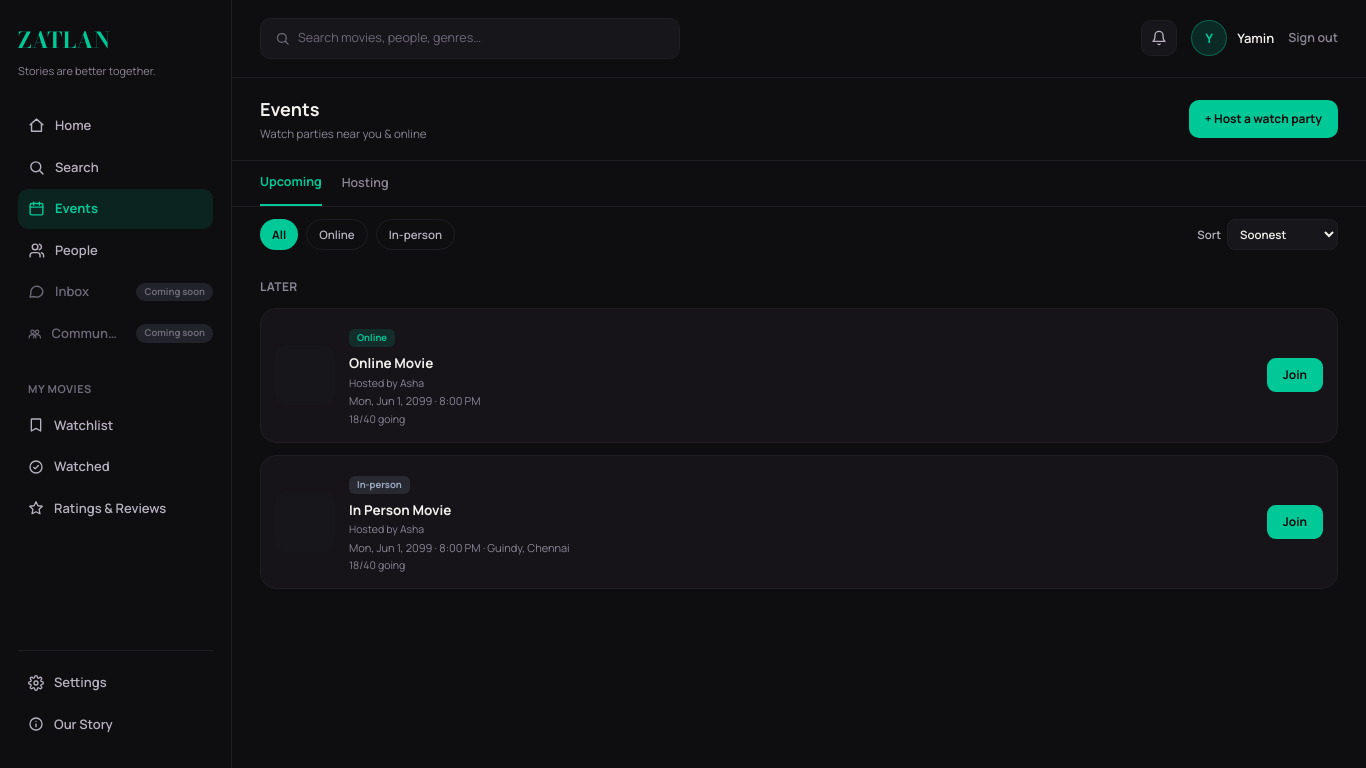
EventsPage › mode filter chips › filters down to only Online when that chip is clicked
Expected: the text "Online Movie" is shown, [349,354,433,372]
What coordinates should you click on to do the following:
click the button "Online"
I would click on:
 (337, 234)
Its box is [306,219,368,250].
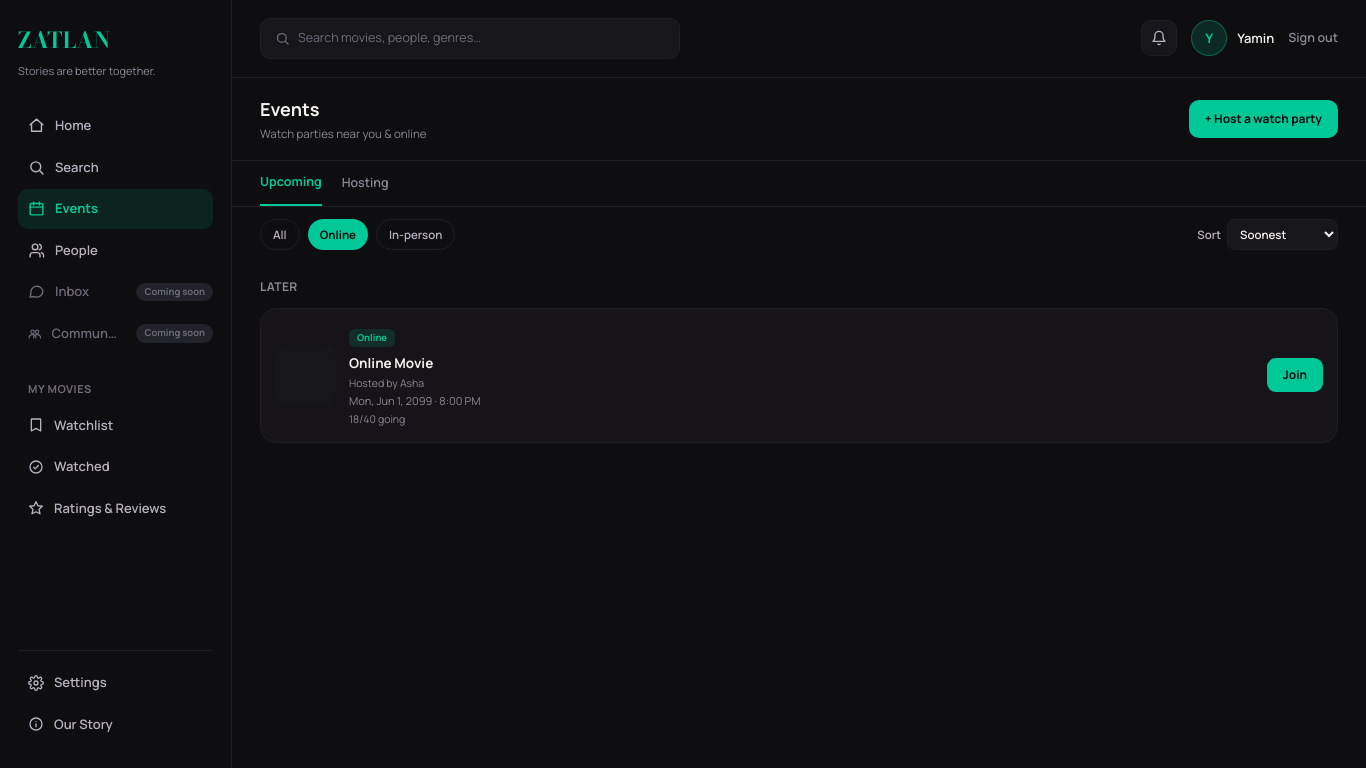
Expected: the text "Online Movie" is shown, [349,354,433,372]
Expected: the button "In Person Movie" is gone
